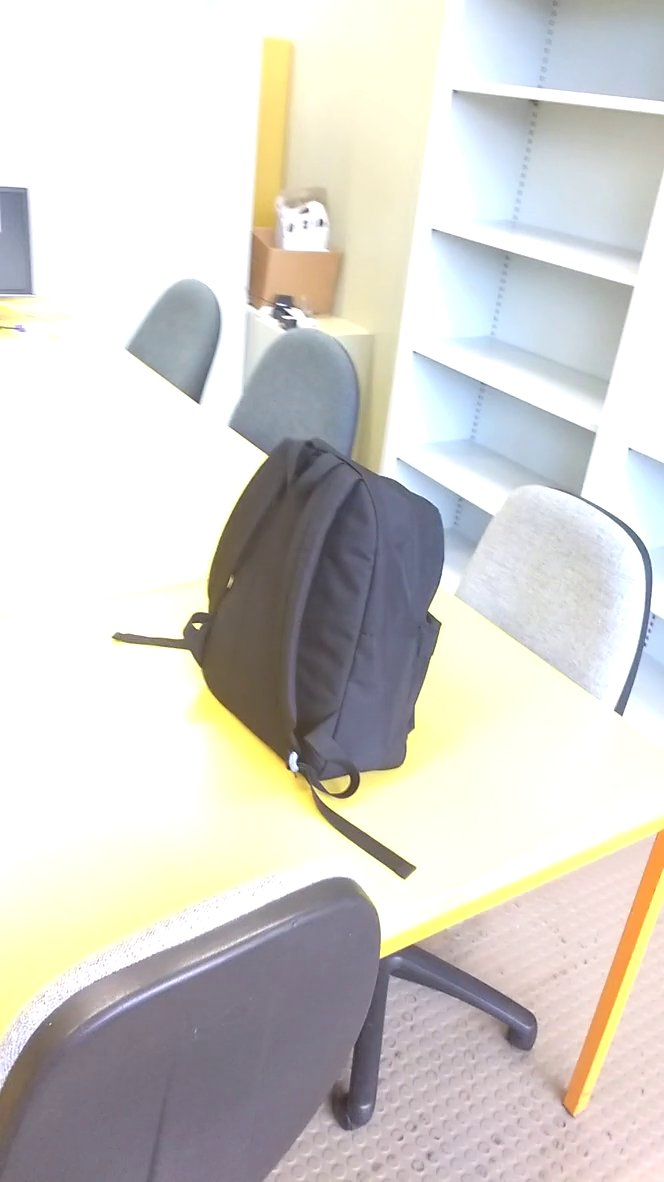bag: (176, 429, 454, 806)
chair: (2, 861, 401, 1182), (434, 475, 664, 732), (227, 322, 375, 507), (113, 268, 229, 413)
